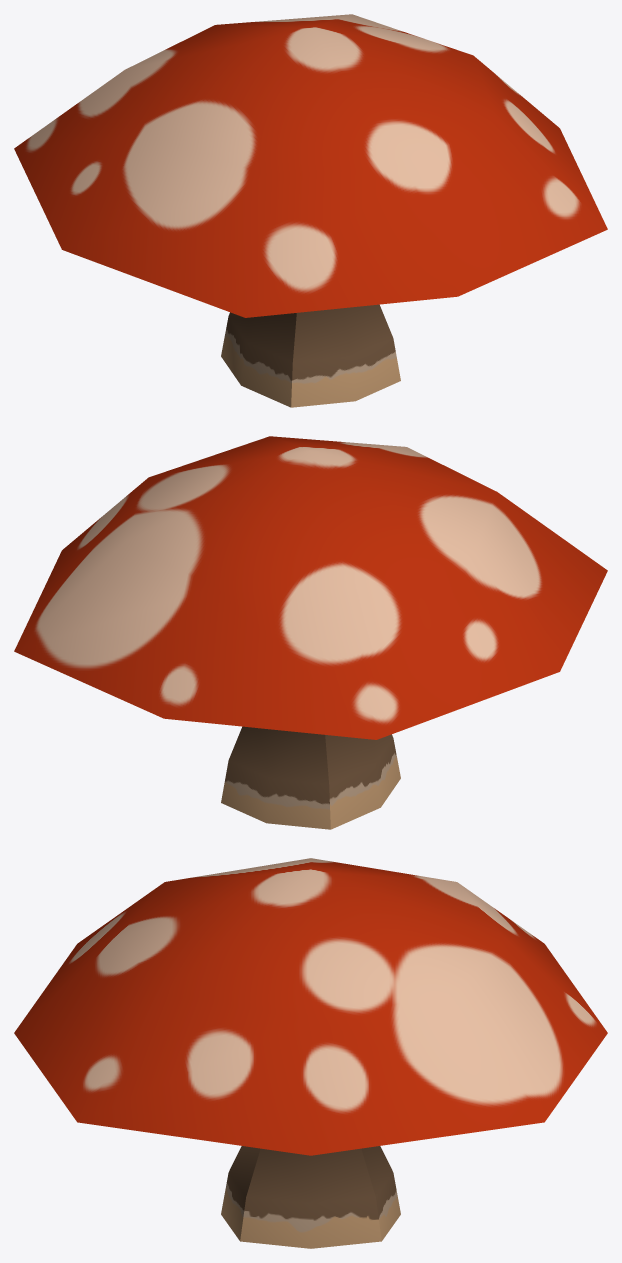
File: mushroom1.FBX
3 views of the same model, one above another, from view 1: azimuth 30°, elevation 25°; view 2: azimuth 150°, elevation 25°; view 3: azimuth 270°, elevation 25° (orthographic).
Visible parts, largest first — view 1: Box001; view 2: Box001; view 3: Box001.
Part boxes in pixels (<box>): Box001: <box>14,14,607,407</box>; Box001: <box>14,436,607,829</box>; Box001: <box>14,858,607,1248</box>.
Size of the model in its own units: 17.15 by 11.18 by 17.54.
